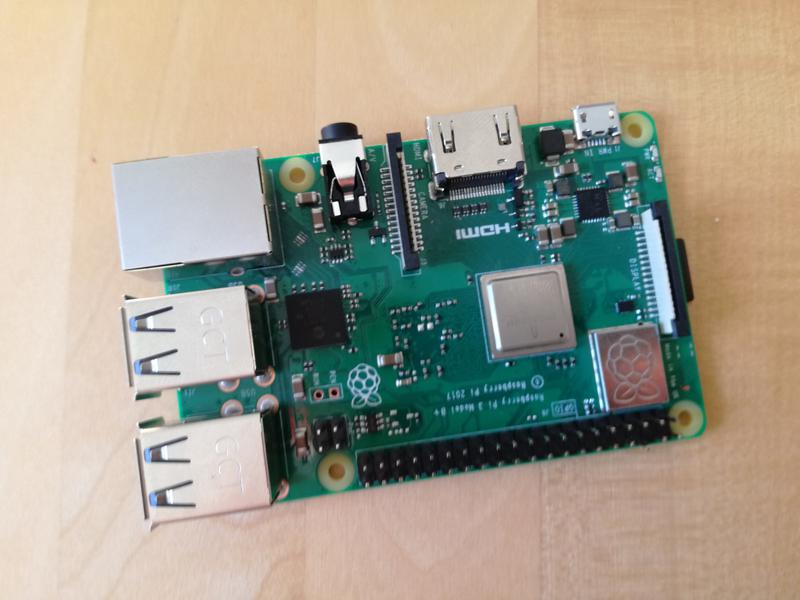Raspberry_Pi_3: (89, 97, 721, 538)
